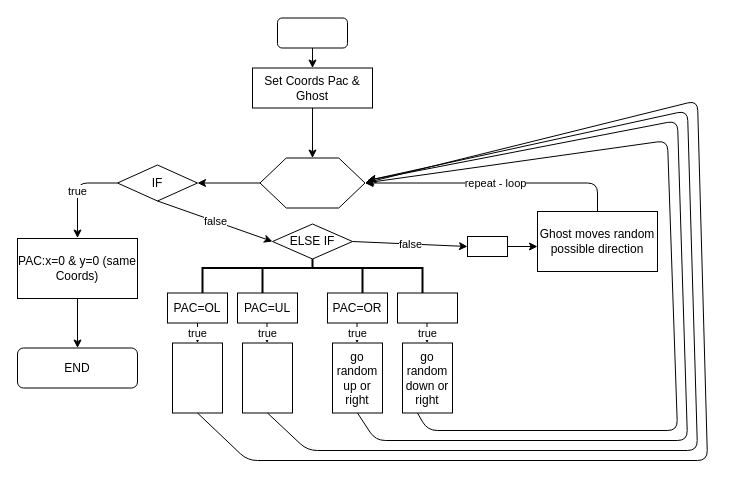
Image size: 733x486. Some labels were removed from this diagram. The box of each missing label's shape, as (x1, y1, x2, y2) in pixels:
ELSE: (466, 236, 508, 256)
go random down or left: (242, 342, 292, 413)
go random up or left: (172, 342, 222, 413)
PAC=UR: (396, 292, 458, 323)
Send Ghost Coords of PAC (Vorzeichen): (259, 157, 365, 208)
Start: (276, 17, 348, 48)
